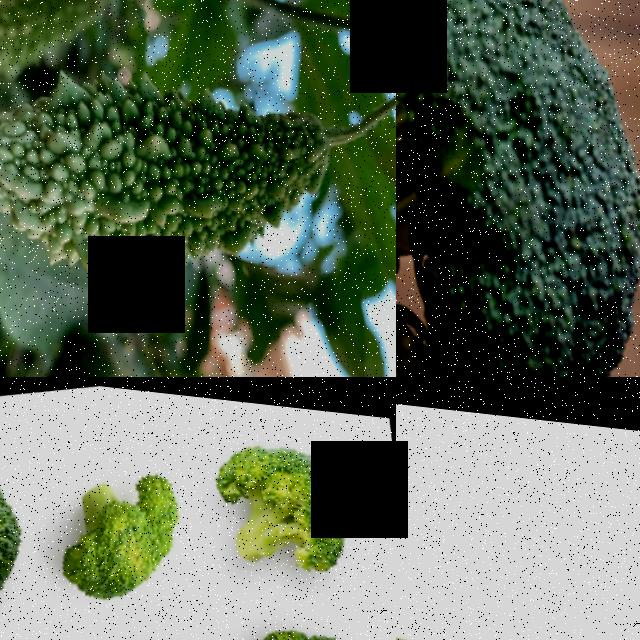bitter gourd: (0, 0, 356, 322)
broccoli: (396, 0, 640, 377), (18, 423, 210, 624), (205, 400, 383, 585), (0, 439, 49, 635), (60, 597, 242, 640)
